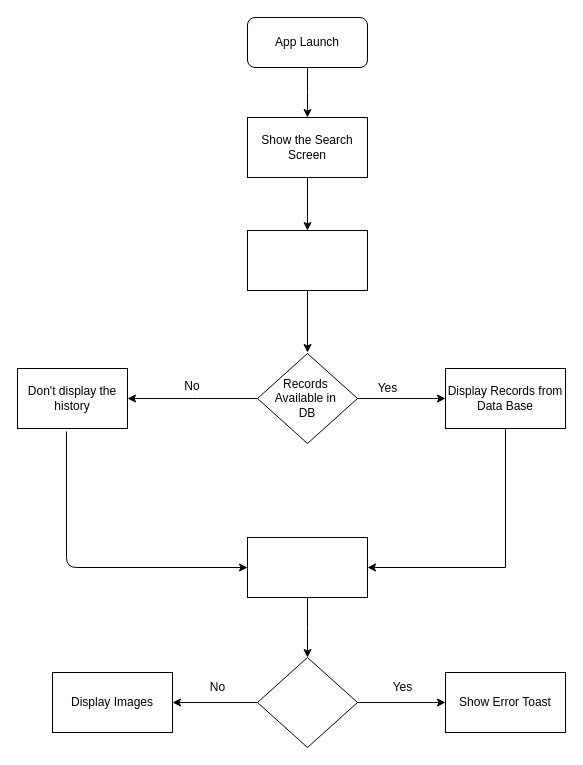
Some shapes in this 583 by 765 pixel diagram are drawn without their labels. The centre of each missing label's shape, as x and y in pixels:
"API Failure" belongs at point (307, 702).
"Checks For Recent Search History" belongs at point (307, 260).
"Search For the Keyword" belongs at point (307, 567).
